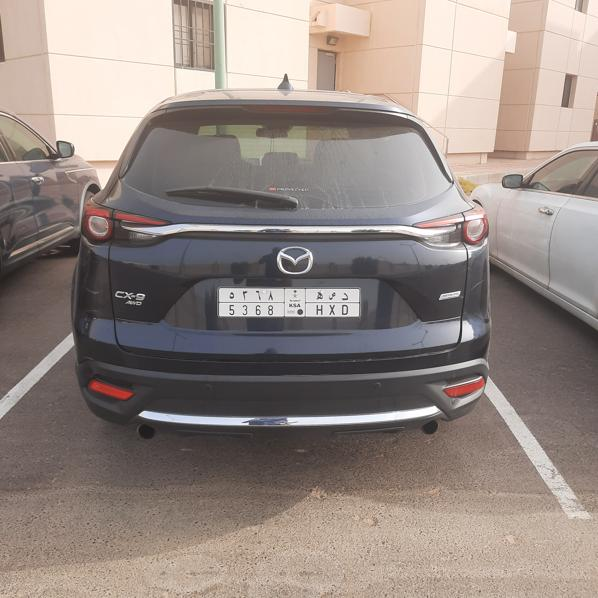numberplate: (217, 286, 362, 319)
